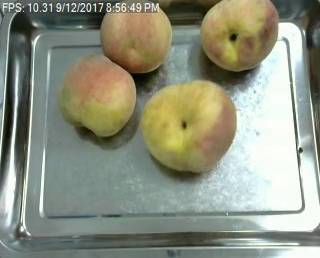Peach: (140, 81, 237, 173), (58, 54, 136, 137), (198, 0, 279, 71), (98, 0, 171, 73)
